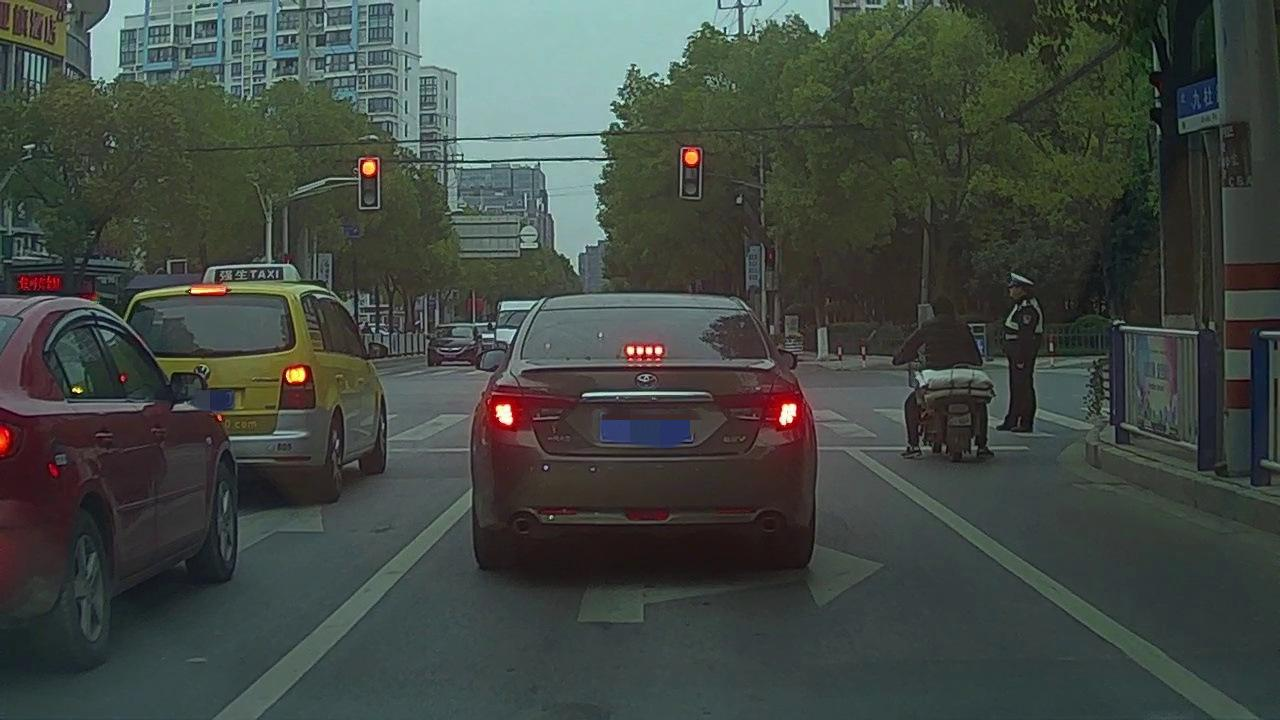traffic_light: (360, 159, 380, 208), (683, 147, 700, 198)
